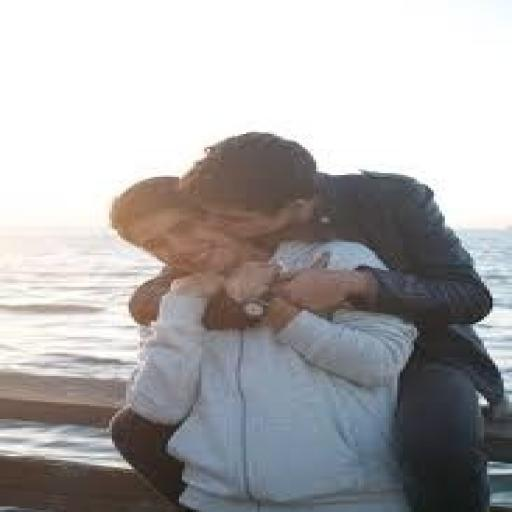hugging: (104, 129, 506, 510)
